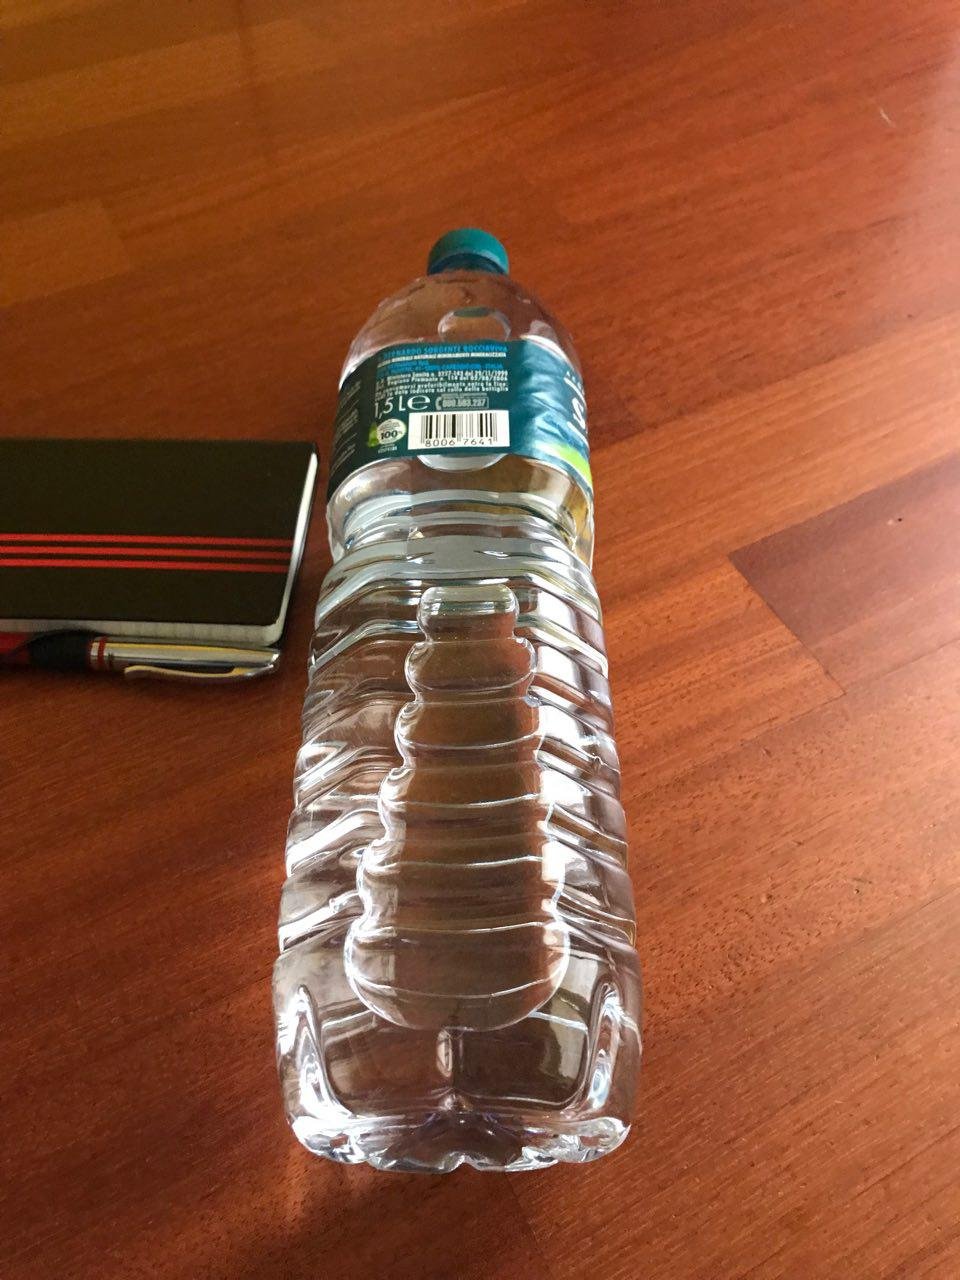san_bernardo: (267, 224, 645, 1177)
